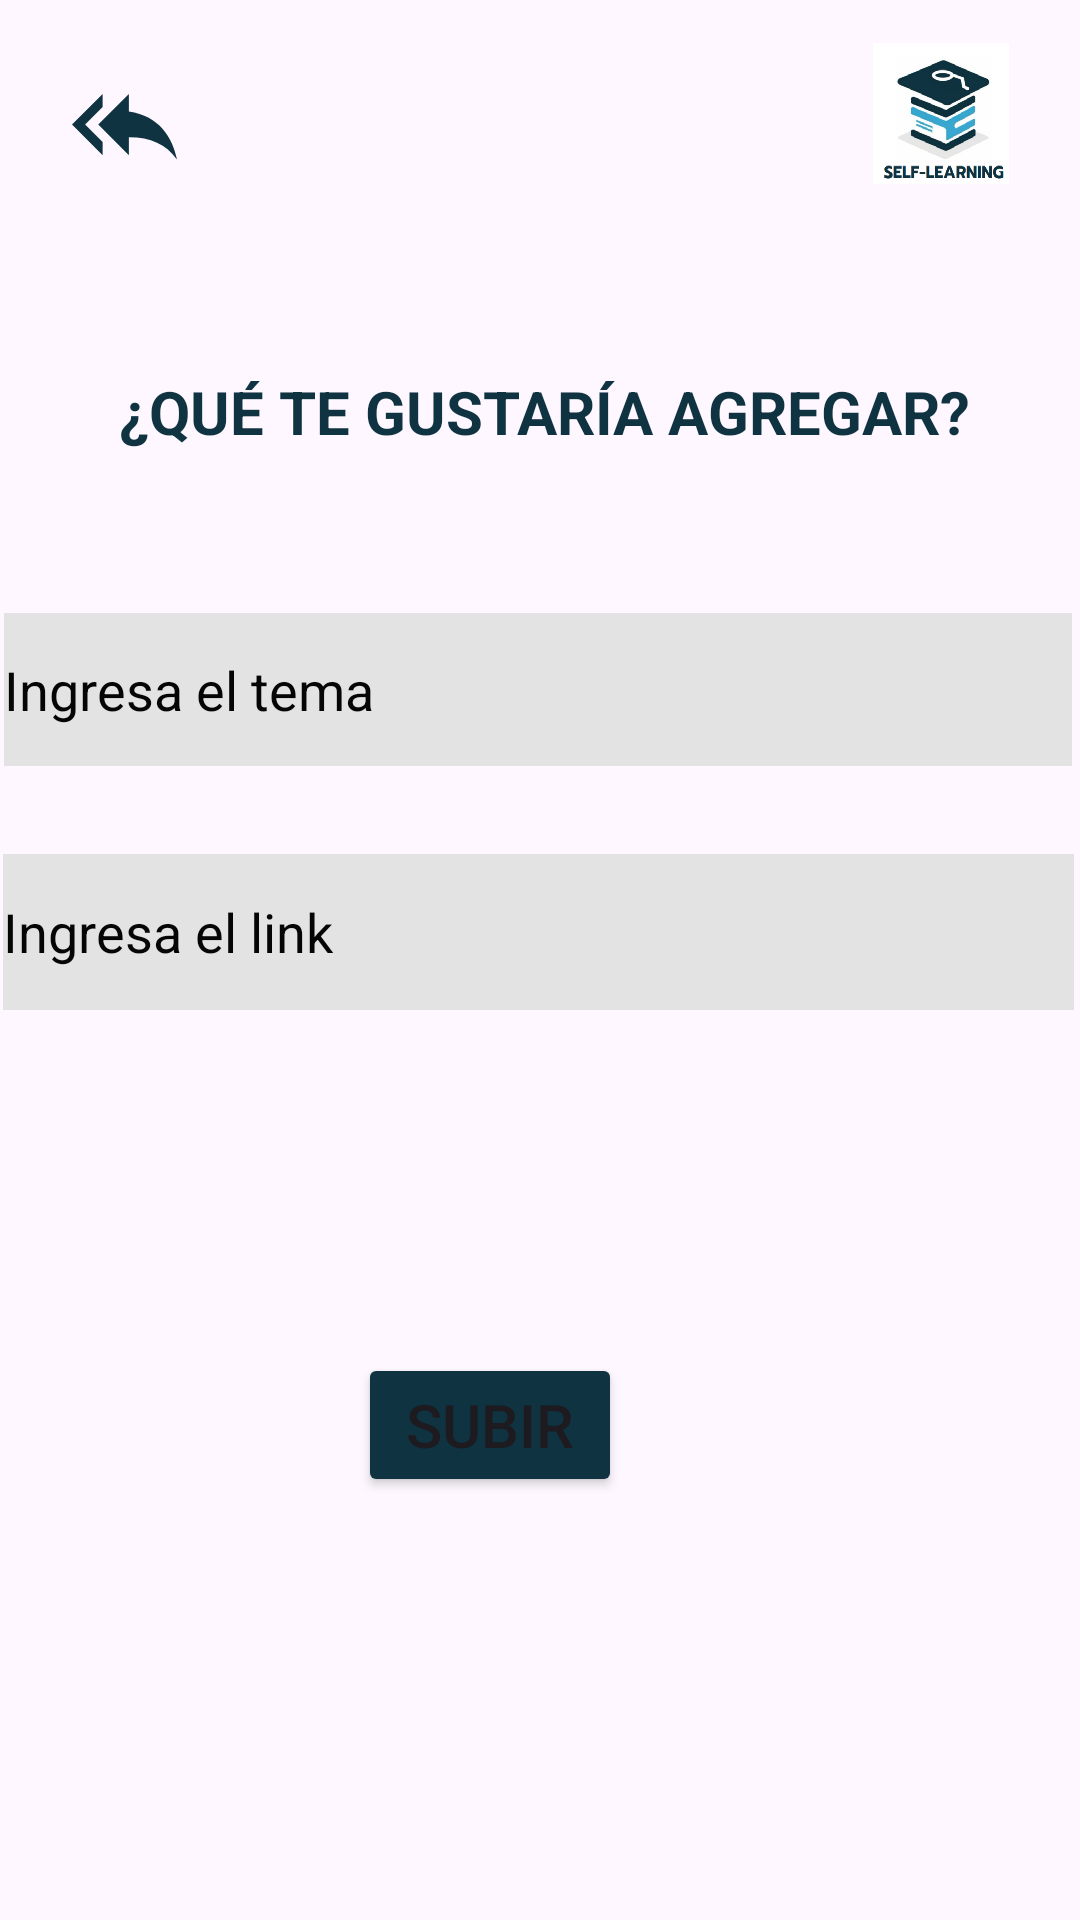

Icons on this 1080px×1920px Android screen, each with its box as region(x1, y1, x2, y2):
backimage: region(72, 94, 177, 159)
